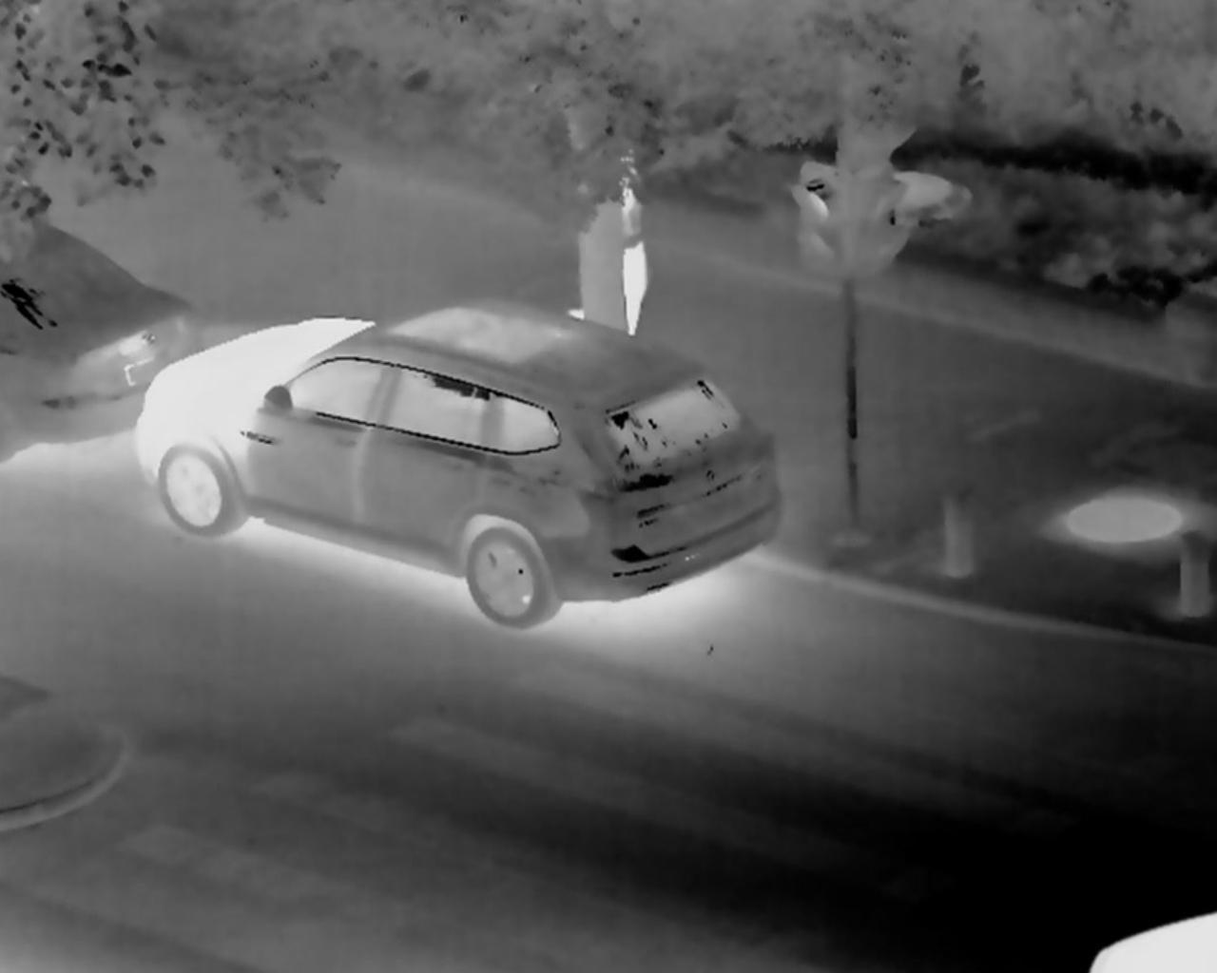person: (562, 138, 649, 335)
